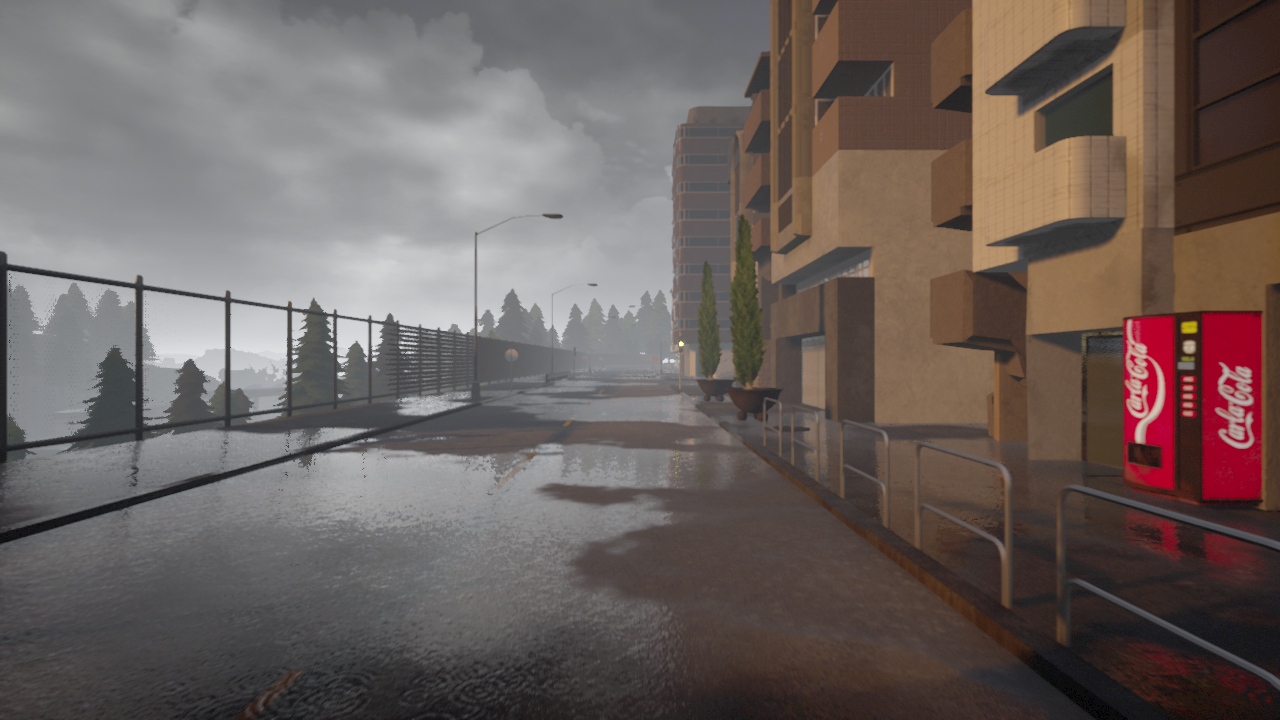yellow: (677, 335, 684, 353)
